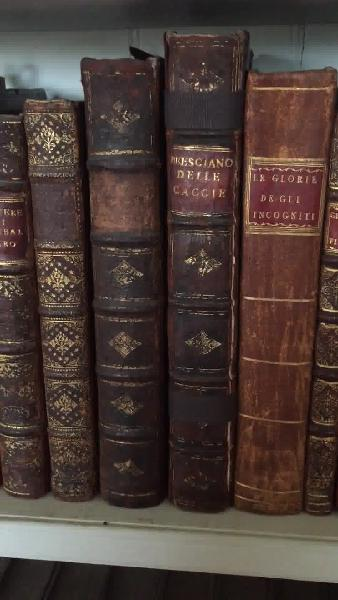Aa6-30: (21, 94, 99, 502)
Aa6-31: (79, 60, 170, 512)
Aa6-32: (154, 30, 235, 522)
Aa6-33: (239, 50, 322, 527)
